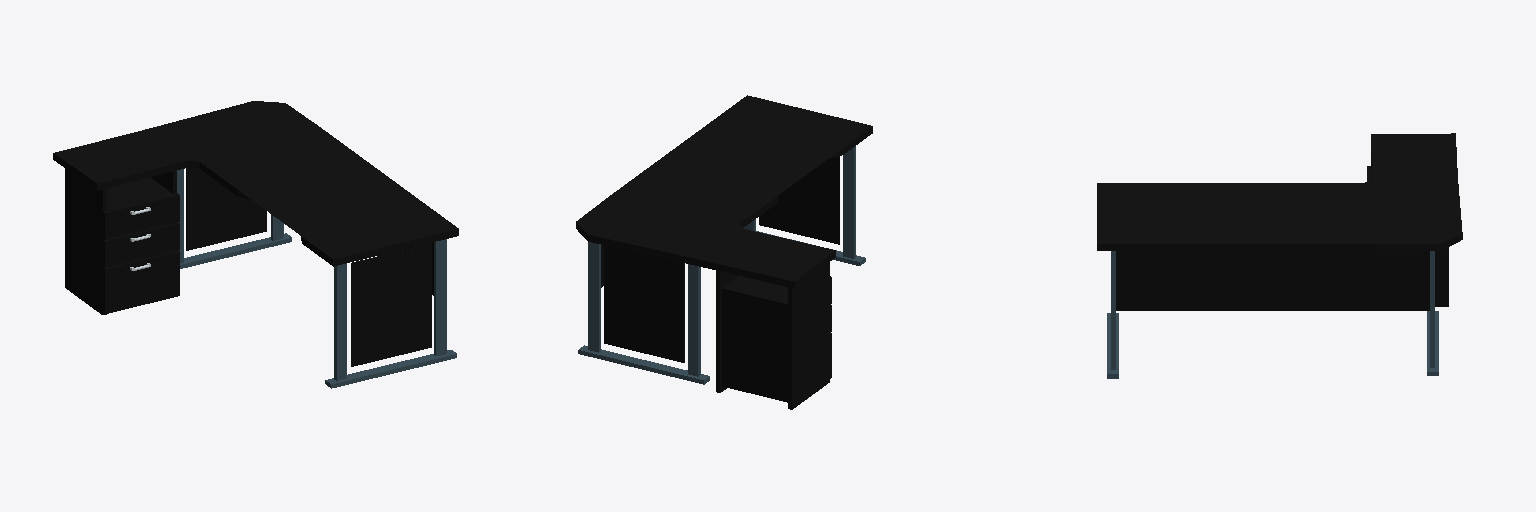
3 views of the same model, side by side, from view 1: azimuth 30°, elevation 25°; view 2: azimuth 150°, elevation 25°; view 3: azimuth 270°, elevation 25° (orthographic).
Visible parts, largest first — view 1: group[number redacted], group[number redacted], group[number redacted], group[number redacted], group[number redacted], group[number redacted], group[number redacted], group[number redacted], group[number redacted], group[number redacted], group[number redacted]; view 2: group[number redacted], group[number redacted], group[number redacted], group[number redacted], group[number redacted], group[number redacted], group[number redacted], group[number redacted]; view 3: group[number redacted], group[number redacted], group[number redacted], group[number redacted], group[number redacted].
Boxes of the visible parts, x1=… form: group[number redacted]: x1=53, y1=101, x2=458, y2=266; group[number redacted]: x1=351, y1=243, x2=431, y2=366; group[number redacted]: x1=177, y1=168, x2=291, y2=268; group[number redacted]: x1=65, y1=168, x2=106, y2=314; group[number redacted]: x1=103, y1=250, x2=179, y2=313; group[number redacted]: x1=103, y1=193, x2=179, y2=239; group[number redacted]: x1=103, y1=222, x2=179, y2=267; group[number redacted]: x1=334, y1=263, x2=346, y2=380; group[number redacted]: x1=434, y1=239, x2=446, y2=356; group[number redacted]: x1=107, y1=177, x2=172, y2=210; group[number redacted]: x1=325, y1=350, x2=456, y2=388; group[number redacted]: x1=576, y1=95, x2=872, y2=288; group[number redacted]: x1=578, y1=242, x2=709, y2=384; group[number redacted]: x1=722, y1=287, x2=787, y2=402; group[number redacted]: x1=788, y1=262, x2=829, y2=409; group[number redacted]: x1=759, y1=157, x2=839, y2=244; group[number redacted]: x1=843, y1=146, x2=855, y2=258; group[number redacted]: x1=716, y1=271, x2=737, y2=392; group[number redacted]: x1=725, y1=276, x2=787, y2=301; group[number redacted]: x1=1097, y1=133, x2=1462, y2=250; group[number redacted]: x1=1116, y1=251, x2=1429, y2=310; group[number redacted]: x1=1427, y1=251, x2=1438, y2=375; group[number redacted]: x1=1435, y1=247, x2=1448, y2=306; group[number redacted]: x1=1111, y1=251, x2=1115, y2=369.
Size of the model in its own units: 1.71 by 0.9499 by 2.36.